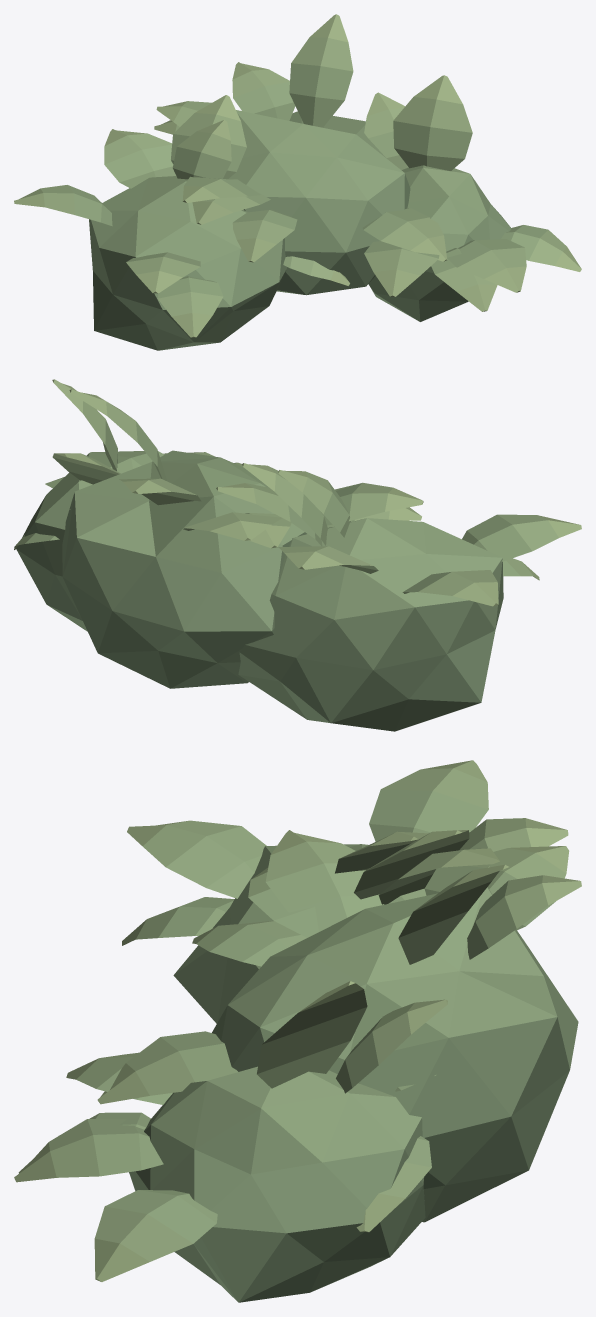
Rendered from Bush2_leaf.glb.
3 renders of one model, top to bottom at view 1: azimuth 30°, elevation 25°; view 2: azimuth 150°, elevation 25°; view 3: azimuth 270°, elevation 25°, orthographic. The views are drawn at different scales.
Visible parts, largest first — view 1: Bush2_leaf; view 2: Bush2_leaf; view 3: Bush2_leaf.
Boxes of the visible parts, <box> form: Bush2_leaf: <box>14,14,581,350</box>; Bush2_leaf: <box>14,379,581,731</box>; Bush2_leaf: <box>14,760,581,1302</box>.
Bounding box in the file's own units: 5.53 × 2.88 × 3.65.
